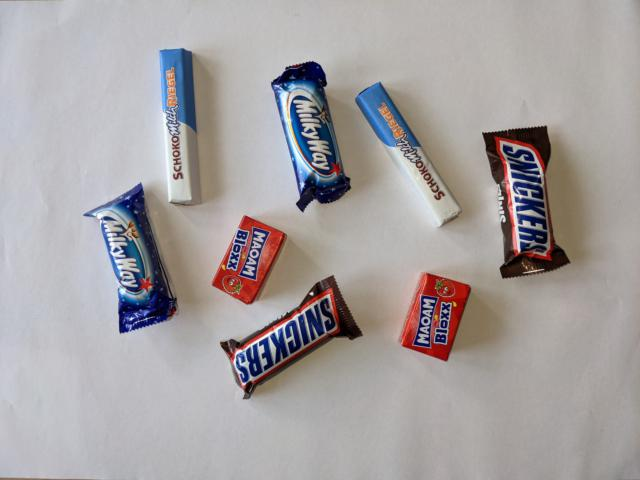MAOAM: (209, 213, 289, 307), (395, 270, 473, 364)
MilkyWay: (82, 181, 181, 335), (269, 59, 354, 214)
Schokoriegel: (354, 80, 464, 230), (155, 48, 204, 208)
Snickers: (219, 273, 365, 401), (479, 123, 573, 280)
